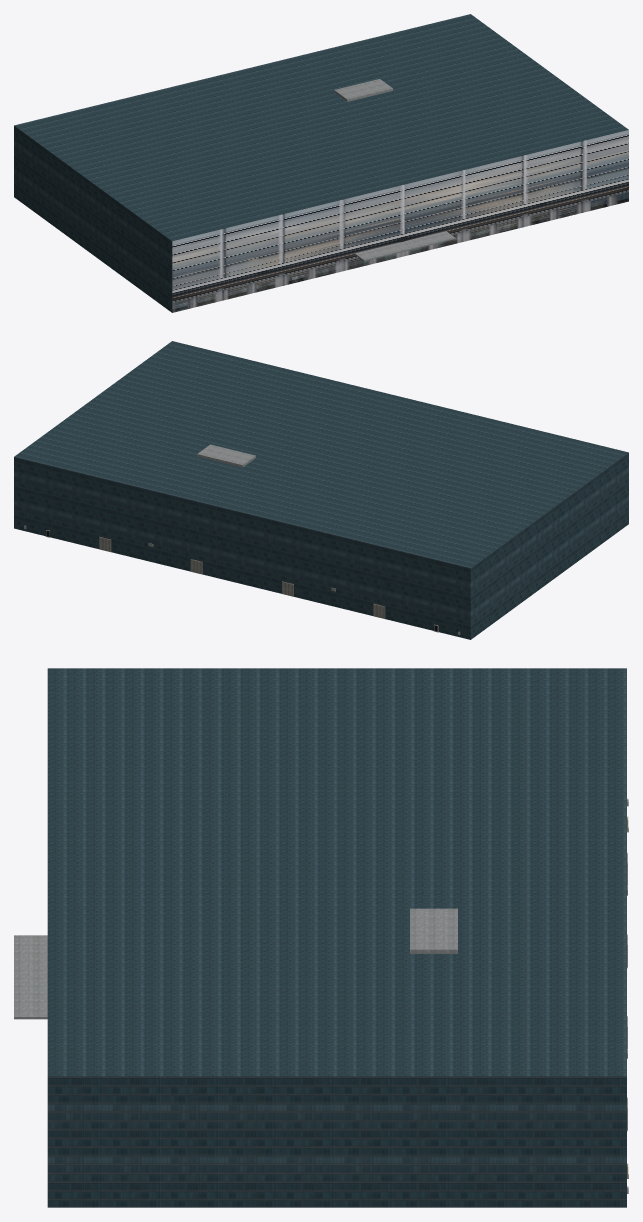
The model's file is harborfront-expo_lod0.gltf.
The picture shows the model from 3 angles, top to bottom: view 1: azimuth 30°, elevation 25°; view 2: azimuth 150°, elevation 25°; view 3: azimuth 270°, elevation 25°; orthographic projection. The views are drawn at different scales.
Parts seen in each view (by area): view 1: harborfront-expo_main, harborfront-expo_front, harborfront-expo__canopy, harborfront-expo__hvac; view 2: harborfront-expo_main, harborfront-expo__hvac, harborfront-expo_fen_21-corrugated-steel_1; view 3: harborfront-expo_main, harborfront-expo__canopy, harborfront-expo__hvac.
Boxes of the visible parts, x1=… form: harborfront-expo_main: x1=14, y1=14, x2=628, y2=312; harborfront-expo_front: x1=172, y1=130, x2=628, y2=312; harborfront-expo__canopy: x1=355, y1=231, x2=455, y2=261; harborfront-expo__hvac: x1=334, y1=79, x2=392, y2=101; harborfront-expo_main: x1=14, y1=341, x2=628, y2=639; harborfront-expo__hvac: x1=197, y1=444, x2=255, y2=467; harborfront-expo_fen_21-corrugated-steel_1: x1=99, y1=537, x2=384, y2=618; harborfront-expo_main: x1=47, y1=668, x2=626, y2=1207; harborfront-expo__canopy: x1=14, y1=935, x2=47, y2=1019; harborfront-expo__hvac: x1=410, y1=908, x2=457, y2=953.
Size of the model in its own units: 200 by 31.02 by 127.
